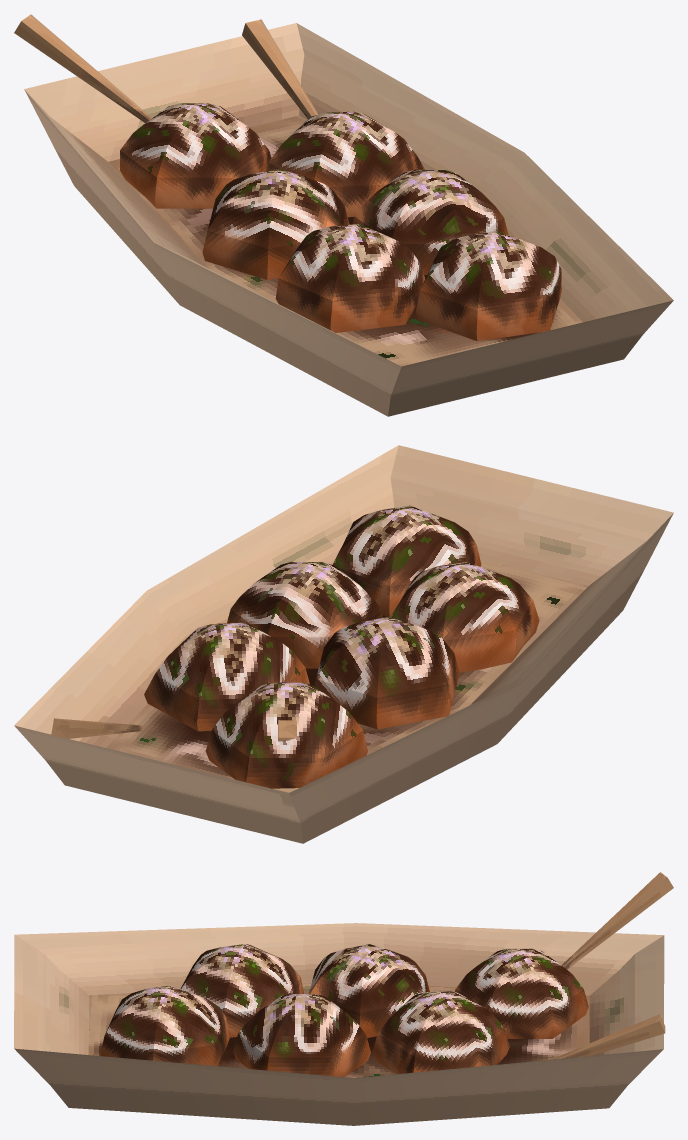
Rendered from tako.glb.
The picture shows the model from 3 angles, top to bottom: view 1: azimuth 30°, elevation 25°; view 2: azimuth 150°, elevation 25°; view 3: azimuth 270°, elevation 25°; orthographic projection. The views are drawn at different scales.
Parts seen in each view (by area): view 1: pSphere26_takoyaki_blinn_texture_0; view 2: pSphere26_takoyaki_blinn_texture_0; view 3: pSphere26_takoyaki_blinn_texture_0.
Part boxes in pixels (x1,y1,x2,y2): pSphere26_takoyaki_blinn_texture_0: [14, 14, 673, 416]; pSphere26_takoyaki_blinn_texture_0: [14, 445, 673, 843]; pSphere26_takoyaki_blinn_texture_0: [14, 872, 673, 1125].
Bounding box in the file's own units: 0.0221 × 0.00851 × 0.0398.
Materials: 1 (1 with a texture image).
